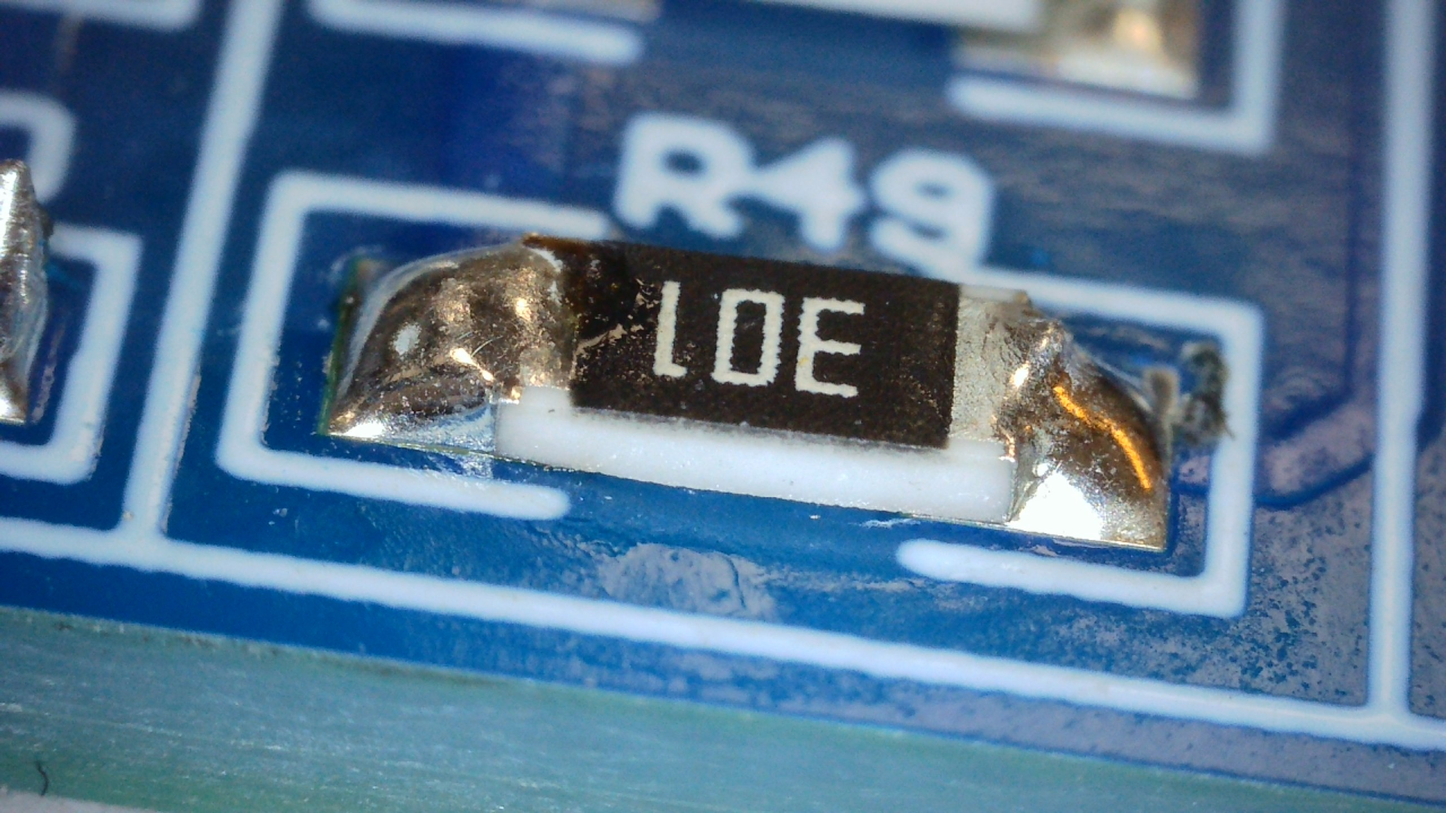NG: (948, 285, 1171, 550), (329, 233, 590, 456), (999, 314, 1060, 424)
